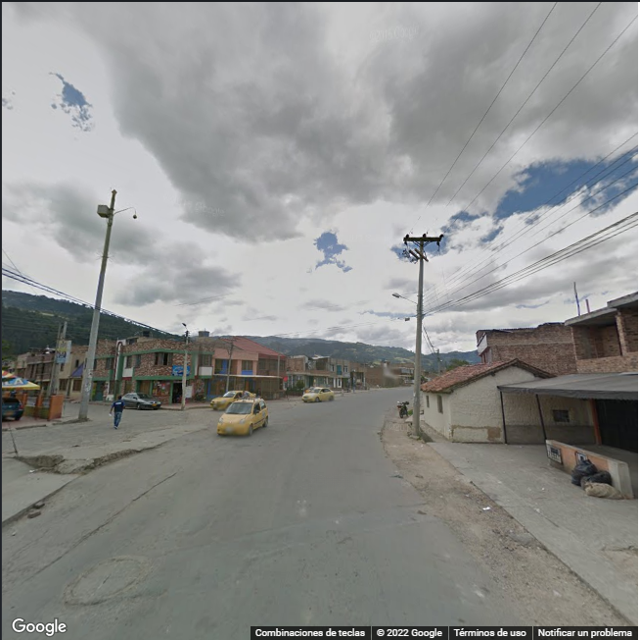D00: (21, 468, 183, 584), (369, 552, 400, 623)
